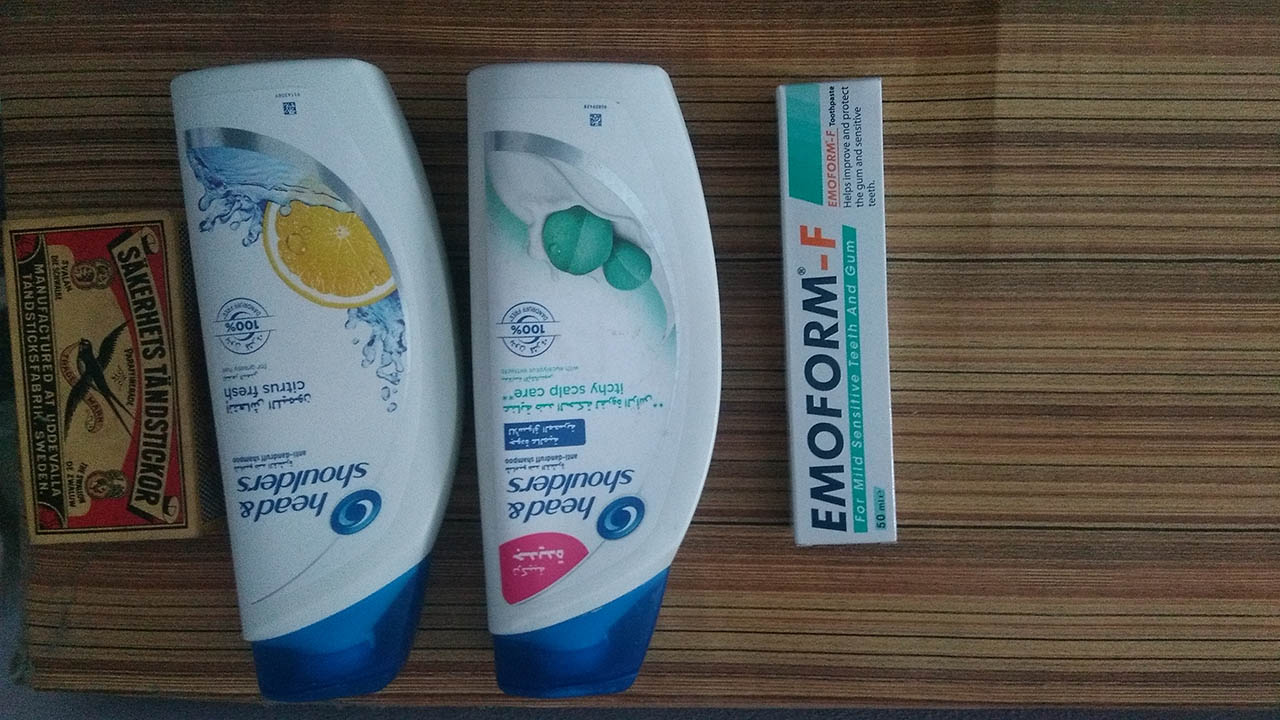Toothpaste-F 1.5$: (769, 80, 908, 549)
match-sticks .90$: (20, 210, 179, 555)
shampoo-Lemon 3.5$: (169, 62, 448, 697)
shampoo-green 4.5$: (461, 64, 720, 712)
